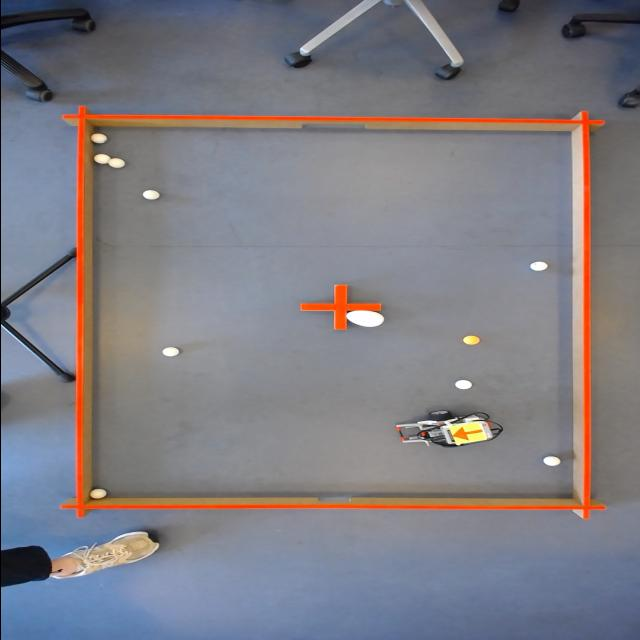cross: (297, 282, 382, 331)
egg: (344, 308, 384, 328)
orange_ball: (458, 334, 482, 346)
robot: (448, 420, 487, 447)
white_ball: (87, 132, 111, 146), (525, 259, 549, 273), (157, 345, 180, 359), (540, 454, 564, 467), (86, 488, 110, 500), (138, 188, 160, 200), (450, 380, 474, 390), (106, 158, 126, 170), (92, 152, 110, 164)
